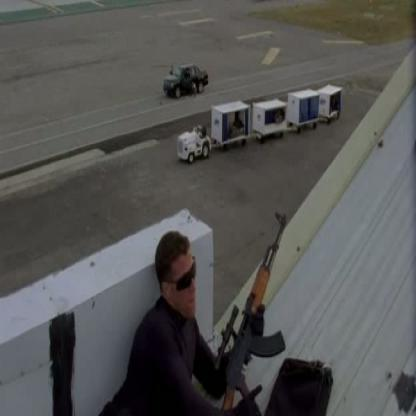Guns: (209, 208, 288, 415)
